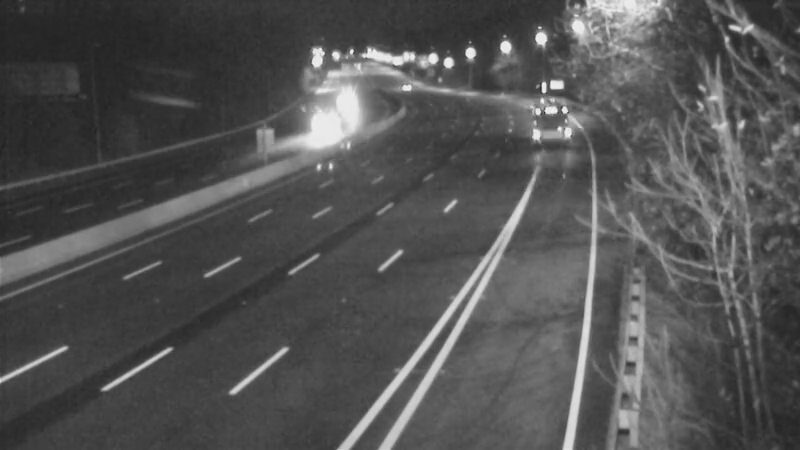vehicle: (380, 61, 430, 111), (516, 86, 566, 136), (300, 110, 350, 160), (319, 75, 369, 125)
